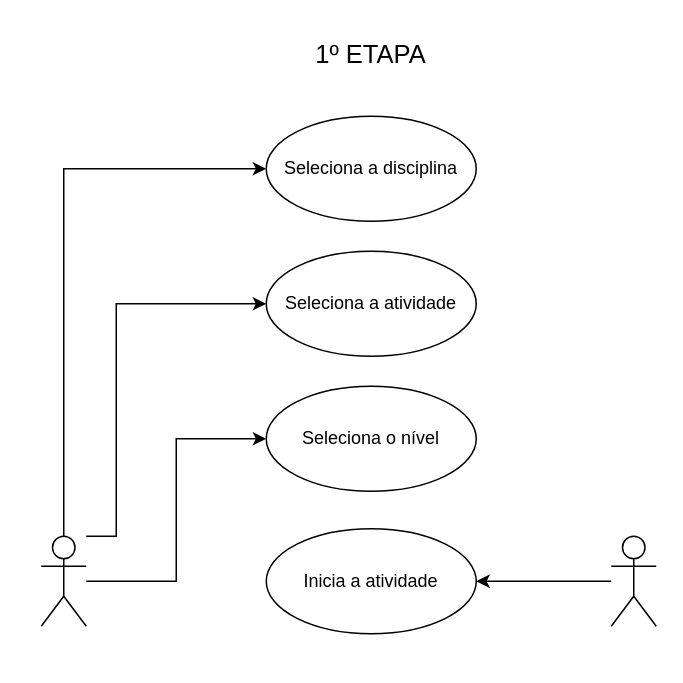
Some shapes in this 683 by 683 pixel diagram are drawn without their labels. Each missing label, with the centre of its shape:
Aluno: [633,580]
Professor: [63,580]
